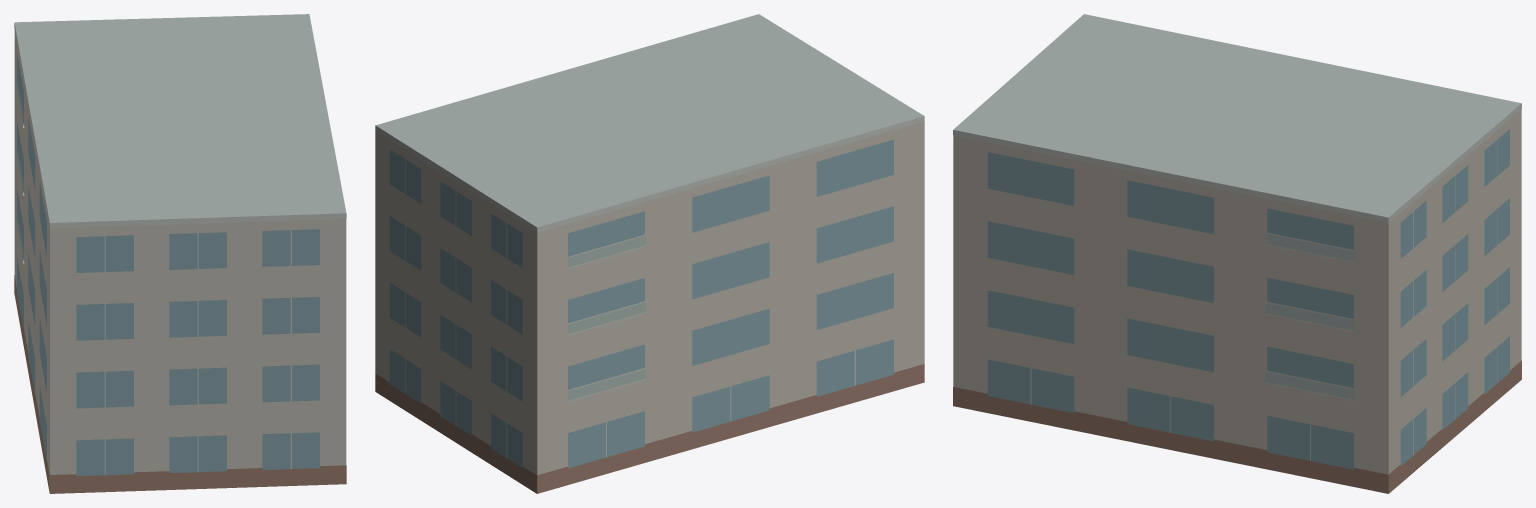
Rendered from survey-upis-32777893.glb.
3 renders of one model, left to right at view 1: azimuth 30°, elevation 25°; view 2: azimuth 150°, elevation 25°; view 3: azimuth 270°, elevation 25°, orthographic. The views are drawn at different scales.
Parts seen in each view (by area): view 1: survey-upis-32777893.tmp; view 2: survey-upis-32777893.tmp; view 3: survey-upis-32777893.tmp.
Boxes of the visible parts, x1,y1,x2,y2 form: survey-upis-32777893.tmp: (14,14,346,493); survey-upis-32777893.tmp: (375,14,924,493); survey-upis-32777893.tmp: (953,14,1521,493).
Size of the model in its own units: 18.81 by 11.9 by 22.21.
